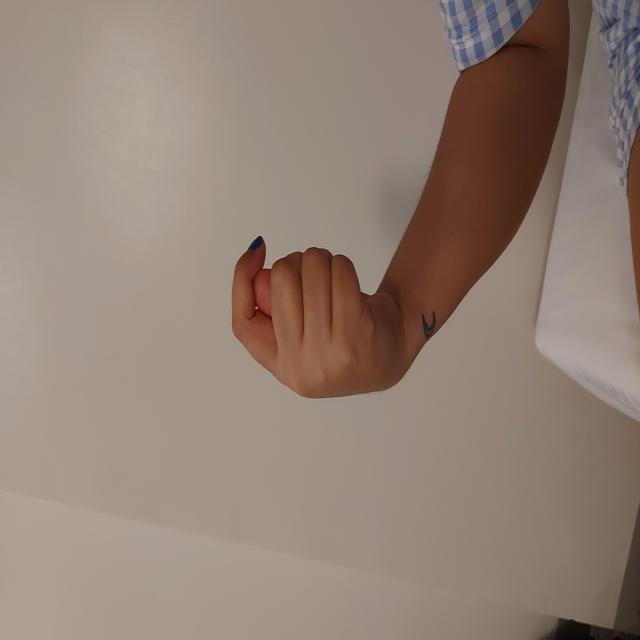T: (240, 231, 408, 405)
